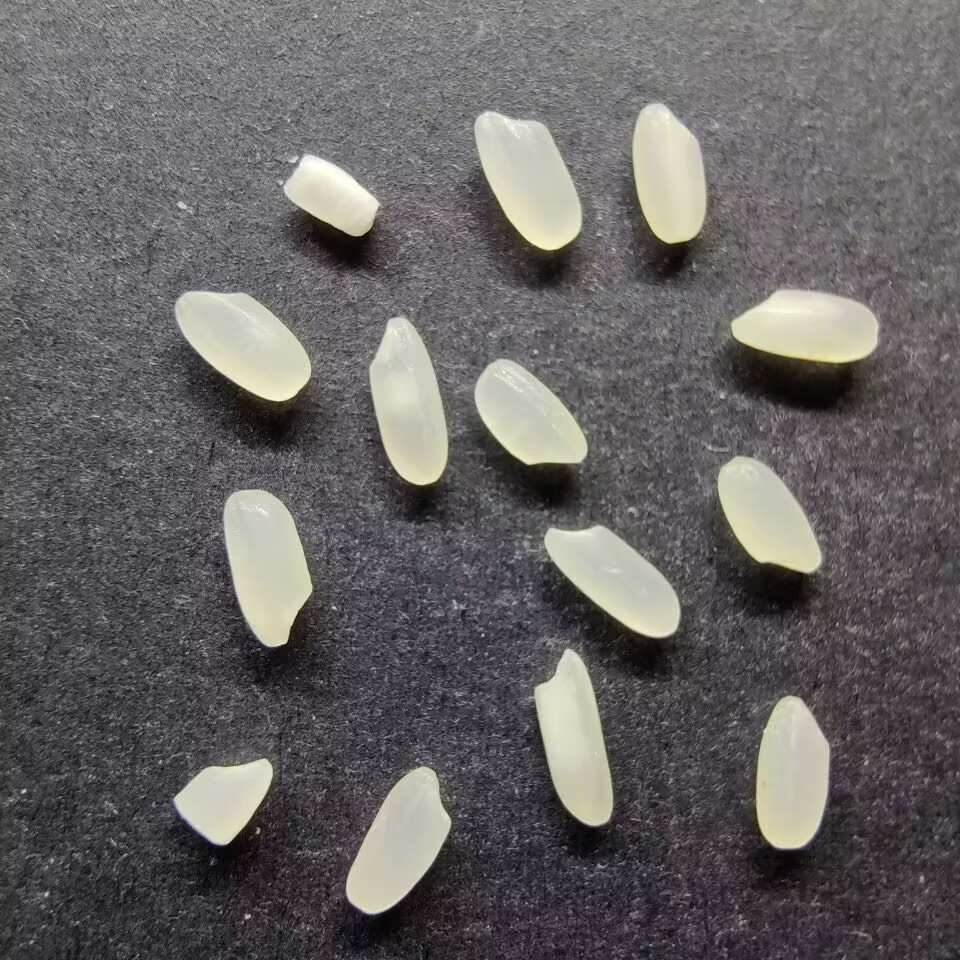broken: (169, 754, 273, 847), (281, 152, 381, 239)
rice: (344, 765, 455, 915), (541, 523, 682, 638), (473, 109, 583, 251), (172, 289, 311, 401), (531, 647, 615, 826), (221, 487, 313, 647), (366, 315, 449, 486), (715, 454, 822, 575), (473, 357, 589, 467), (752, 695, 830, 850), (729, 287, 880, 364), (630, 101, 707, 245)
